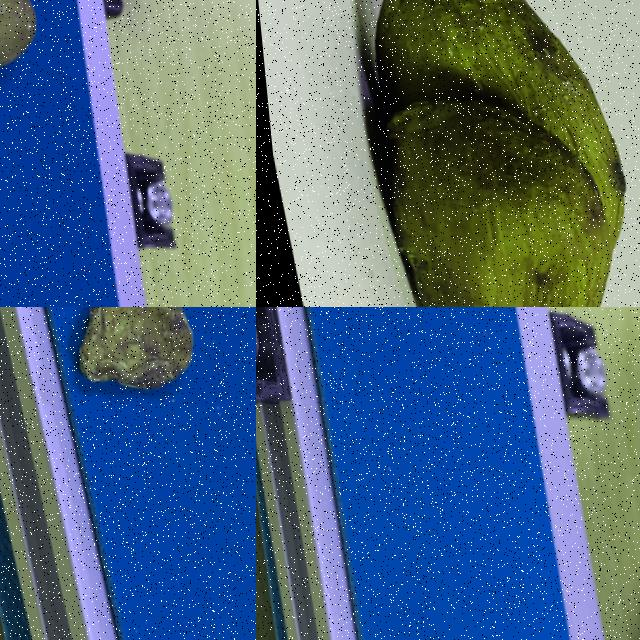Agglomerated_cocoabeans: (275, 0, 639, 306), (280, 307, 496, 387)
Fine_cocoabeans: (0, 0, 64, 159)
Flat_cocoabeans: (9, 307, 250, 514)
